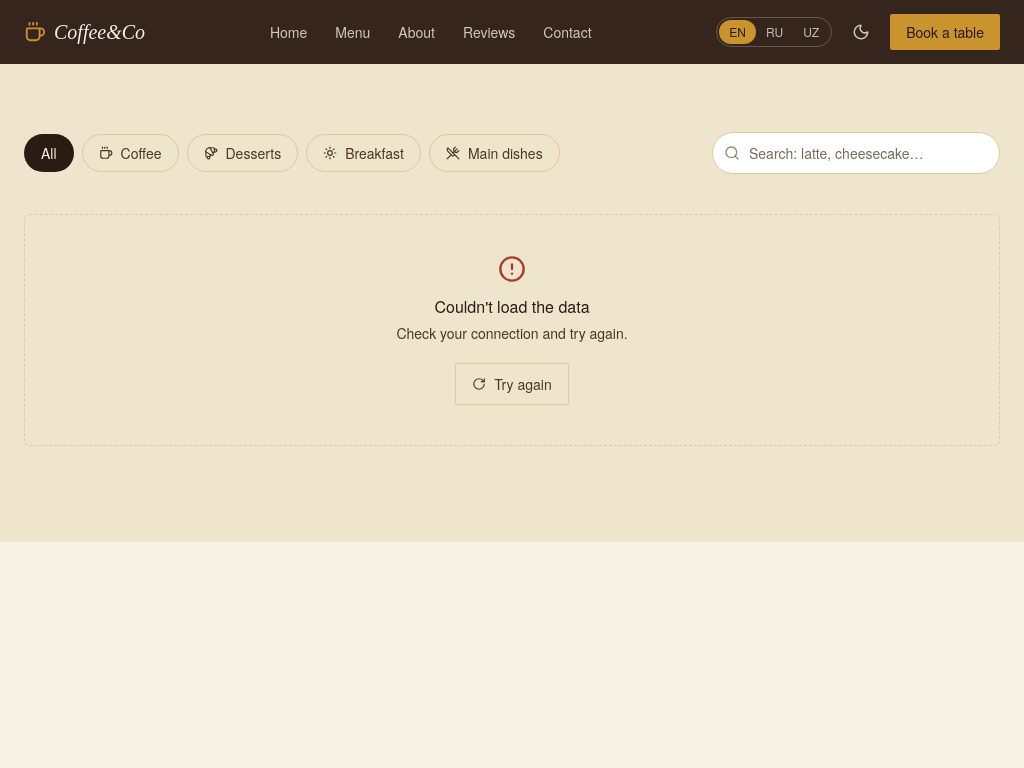
Test case: Landing: loading, error and empty states › shows an error with a retry button, and the menu after a successful retry
The image size is (1024, 768).
(page scrolled)
Expected: the message shows "Couldn't load the data", x1=434 y1=295 x2=590 y2=318
Step 1. Click the button "Try again" → (512, 384), box x1=455 y1=363 x2=569 y2=405
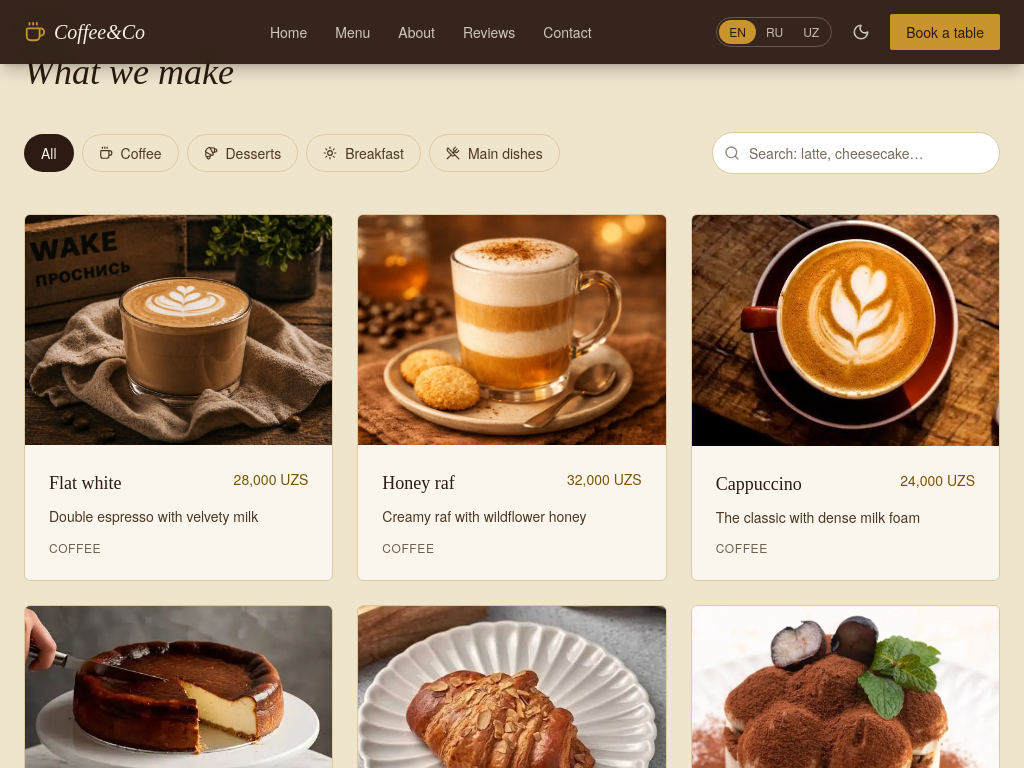
Expected: the number of buttons named "Details:" is 9
Expected: the text "Couldn't load the data" is gone
